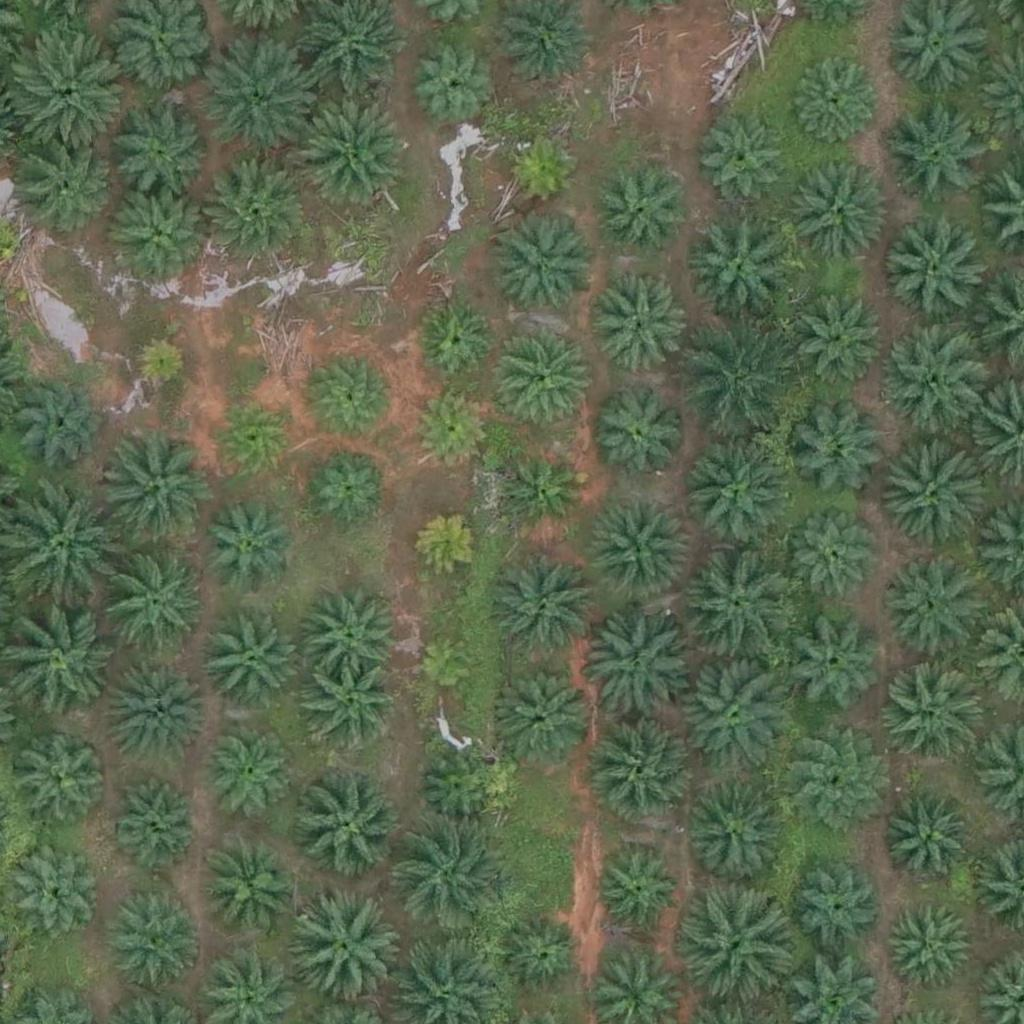Kelapa_Sawit: (680, 662, 793, 776), (487, 546, 600, 660), (291, 767, 404, 881), (683, 544, 796, 657), (680, 881, 793, 994), (585, 612, 698, 725), (284, 895, 397, 1008), (878, 327, 991, 440), (681, 208, 794, 321), (682, 331, 795, 444), (3, 494, 116, 607), (877, 449, 989, 563), (295, 98, 407, 212), (197, 155, 309, 269), (397, 818, 509, 931), (205, 44, 317, 157), (12, 29, 124, 142), (100, 430, 212, 543), (686, 782, 786, 883), (586, 499, 686, 600), (599, 722, 699, 823), (500, 663, 600, 764), (300, 583, 400, 684), (194, 496, 294, 597), (201, 612, 301, 713), (201, 836, 301, 937), (107, 552, 207, 653), (104, 885, 204, 986), (12, 725, 112, 826), (889, 101, 989, 202), (788, 398, 888, 499), (592, 157, 692, 258), (592, 267, 692, 368), (585, 390, 685, 491), (490, 219, 590, 320), (489, 327, 589, 428), (113, 100, 213, 201), (8, 139, 108, 240), (888, 664, 988, 764), (782, 504, 882, 604), (103, 667, 203, 767), (881, 3, 981, 103), (882, 216, 982, 316), (690, 441, 790, 541), (792, 284, 892, 384), (791, 160, 891, 260), (113, 186, 213, 286), (883, 562, 982, 663), (204, 734, 292, 823), (790, 51, 878, 140), (883, 790, 971, 878), (884, 903, 972, 991), (789, 747, 877, 835), (788, 617, 876, 705), (417, 748, 505, 836), (309, 663, 397, 751), (109, 778, 197, 866), (500, 123, 588, 211), (308, 351, 396, 439), (308, 443, 396, 531), (406, 383, 494, 471), (414, 294, 502, 382), (696, 114, 784, 202), (409, 39, 497, 127), (21, 376, 109, 464), (595, 849, 682, 938), (796, 862, 883, 950), (498, 916, 585, 1004), (10, 846, 97, 934), (209, 393, 296, 481), (499, 443, 586, 531), (411, 505, 486, 581), (126, 334, 189, 397), (416, 634, 478, 697)
